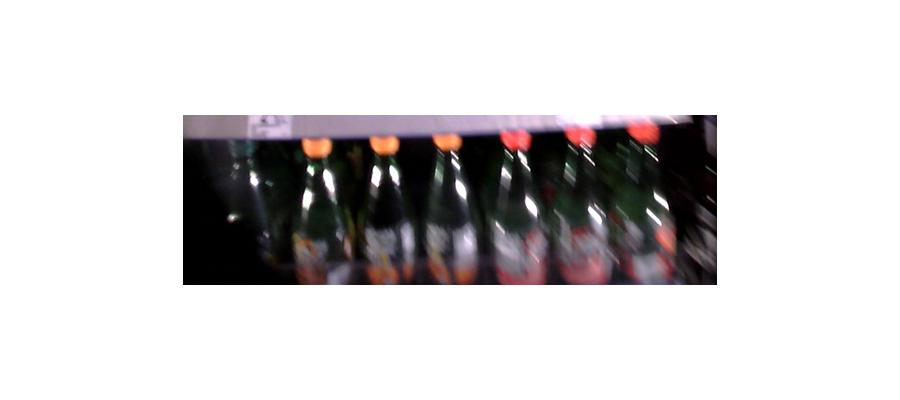bottle: (420, 130, 482, 289), (486, 129, 548, 286), (615, 126, 673, 293), (291, 135, 351, 286), (553, 127, 608, 287), (358, 133, 414, 288), (245, 129, 296, 277)
